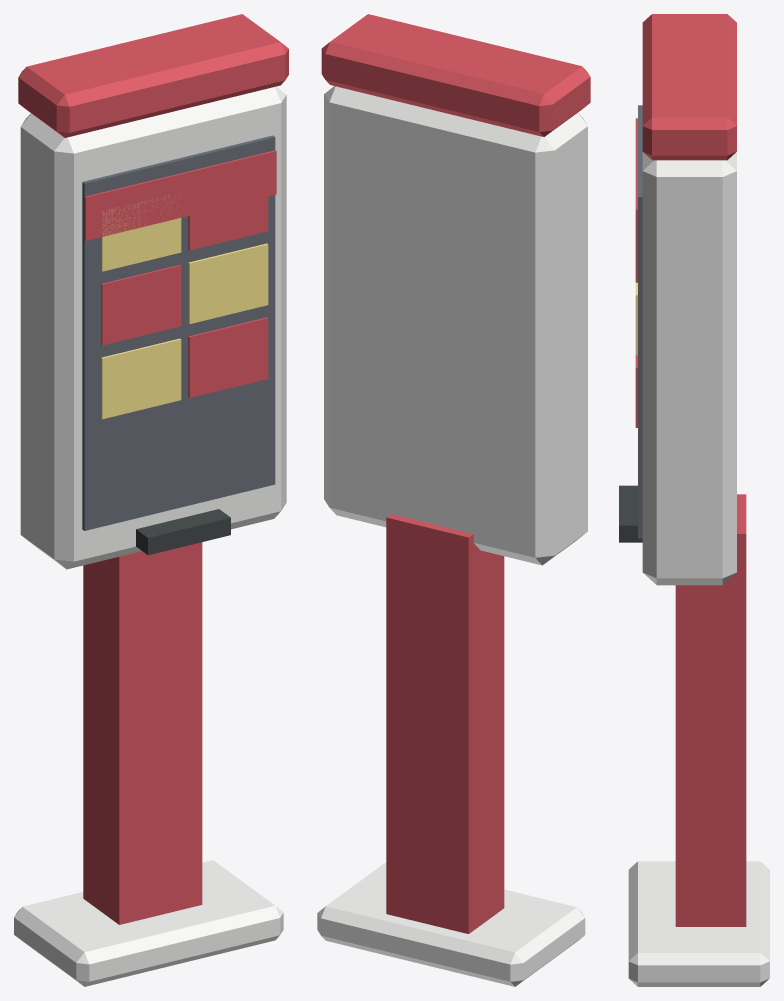
Rendered from order-kiosk-chicken.glb.
The picture shows the model from 3 angles, left to right: view 1: azimuth 30°, elevation 25°; view 2: azimuth 150°, elevation 25°; view 3: azimuth 270°, elevation 25°; orthographic projection.
Visible parts, largest first — view 1: order-kiosk-chicken; view 2: order-kiosk-chicken; view 3: order-kiosk-chicken.
Boxes of the visible parts, x1,y1,x2,y2 form: order-kiosk-chicken: [14, 14, 288, 986]; order-kiosk-chicken: [317, 14, 590, 986]; order-kiosk-chicken: [619, 14, 769, 986].
Size of the model in its own units: 0.56 by 2.05 by 0.32.
